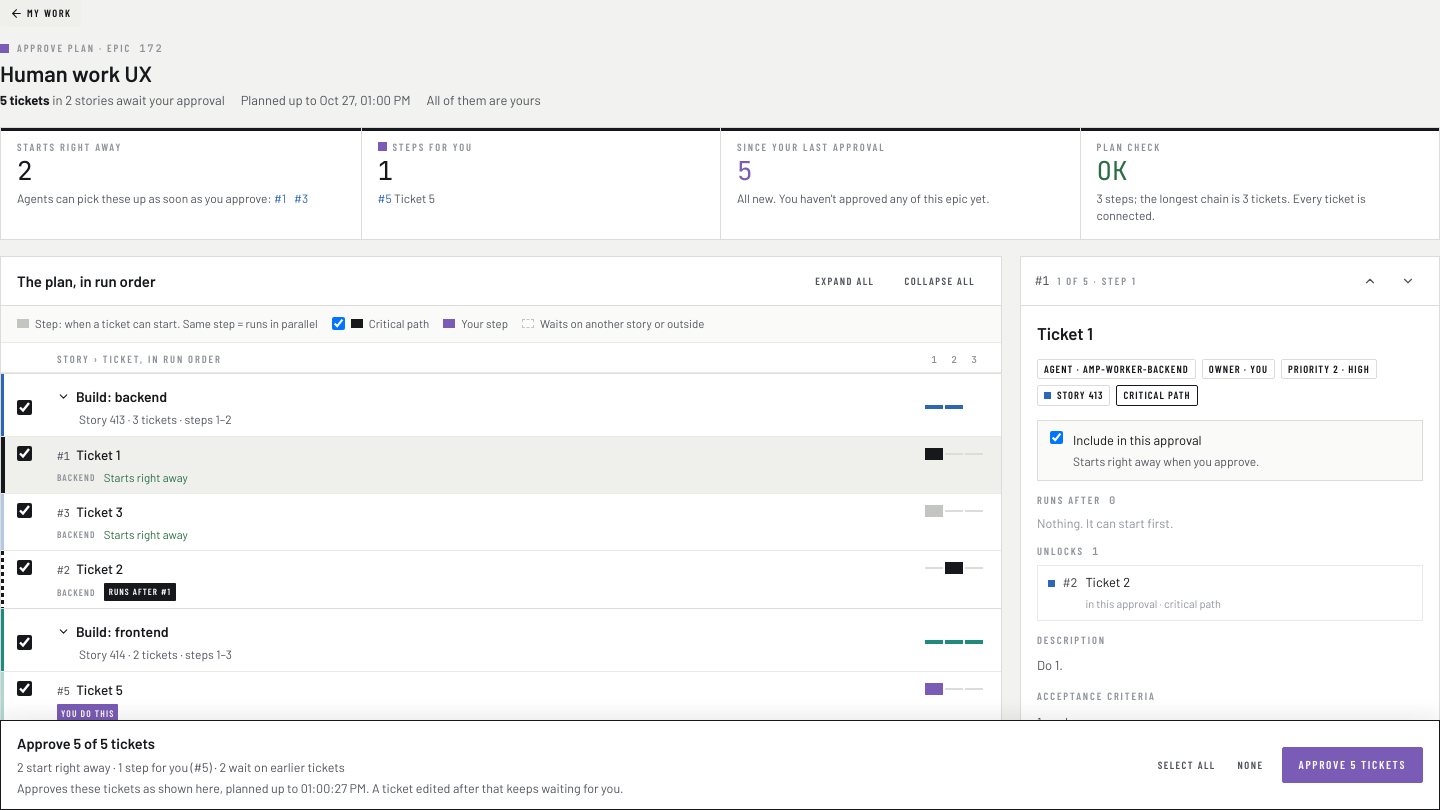
Test: ApproveView › says a ready step of yours is under Do, not Coming up
What coordinates should you click on to do the following:
click the button "Approve 5 tickets"
I would click on:
 (1352, 765)
Its box is x1=1282 y1=747 x2=1423 y2=783.
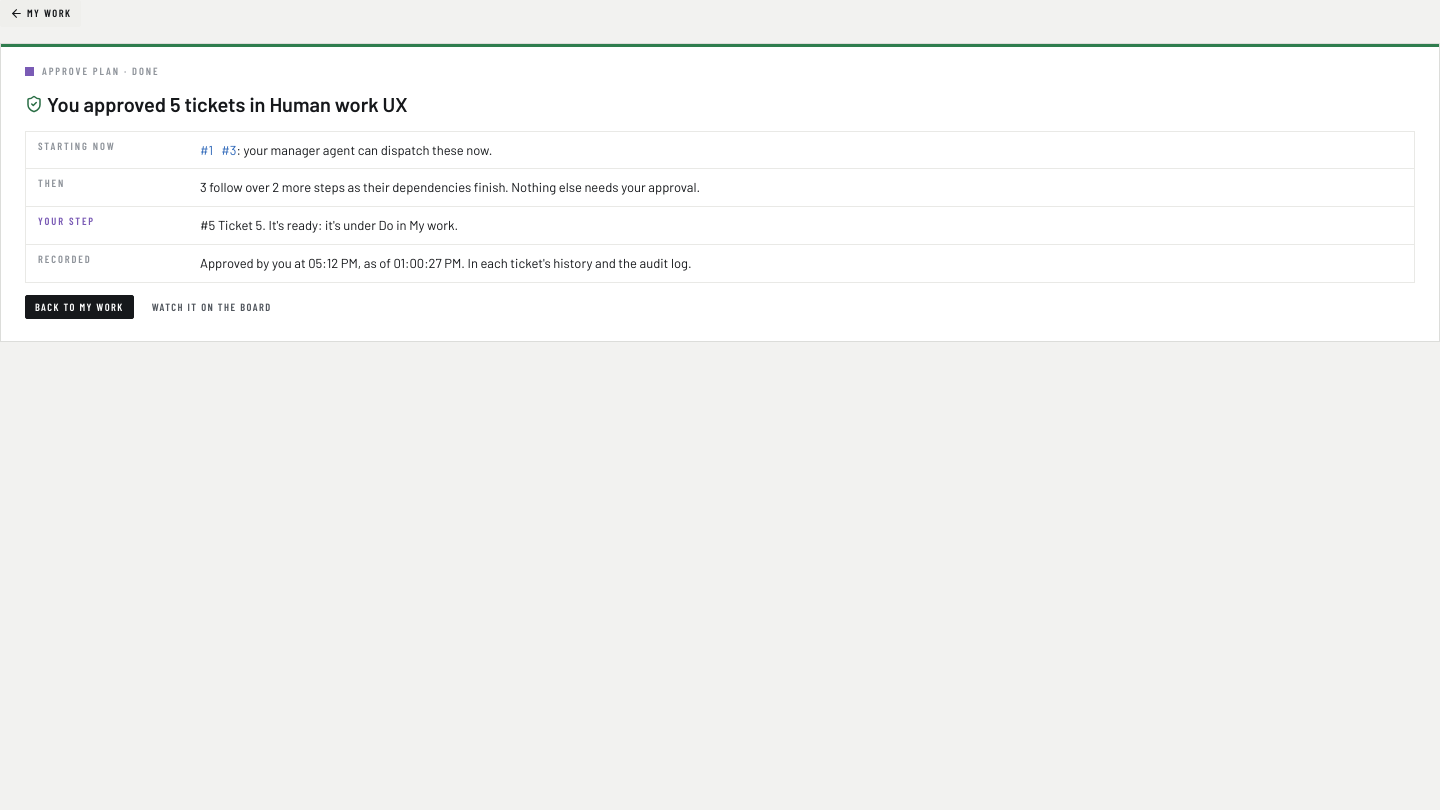
expect the text "#5 Ticket 5. It's ready: it's under Do in My work." is shown: met, box x1=200 y1=217 x2=458 y2=233
